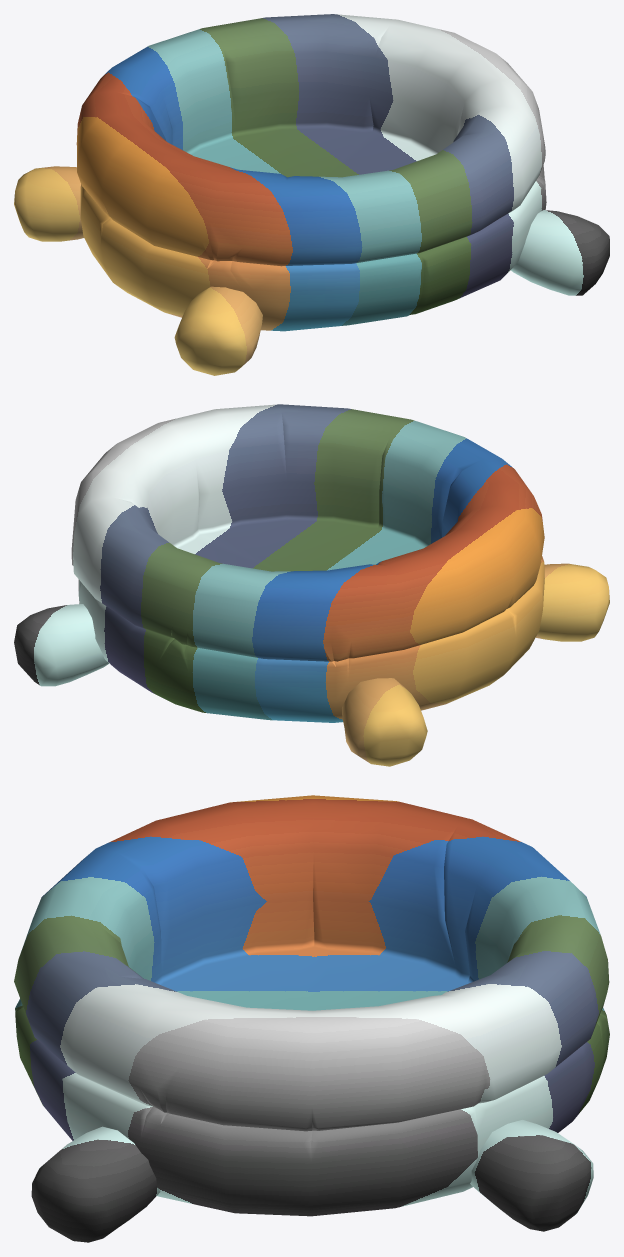
The model's file is CharSkyKid_Prop_CrabFloat__Prop_CrabFloat_CompOcc.glb.
3 views of the same model, one above another, from view 1: azimuth 30°, elevation 25°; view 2: azimuth 150°, elevation 25°; view 3: azimuth 270°, elevation 25° (orthographic). The views are drawn at different scales.
Parts seen in each view (by area): view 1: CharSkyKid_Prop_CrabFloat; view 2: CharSkyKid_Prop_CrabFloat; view 3: CharSkyKid_Prop_CrabFloat.
Part boxes in pixels (x1,y1,x2,y2): CharSkyKid_Prop_CrabFloat: [14, 14, 609, 375]; CharSkyKid_Prop_CrabFloat: [14, 404, 609, 766]; CharSkyKid_Prop_CrabFloat: [14, 795, 609, 1242].
Size of the model in its own units: 2.61 by 0.9991 by 2.46.
1 material, 1 textured.
